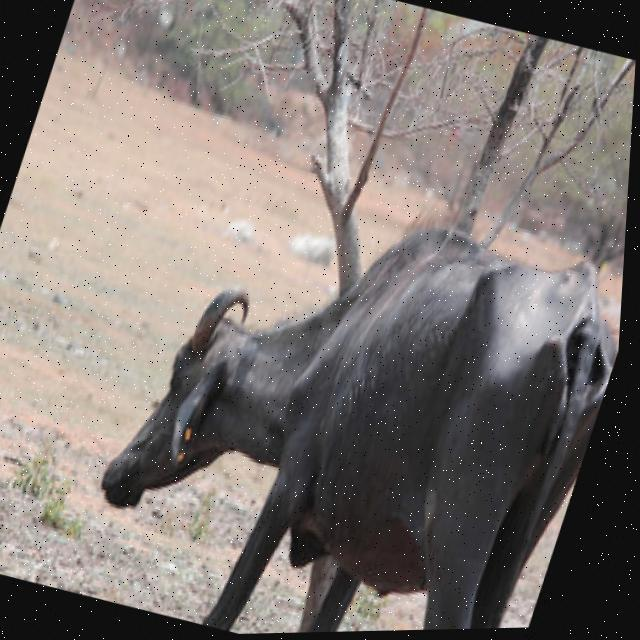Buffalo: (57, 141, 631, 638)
